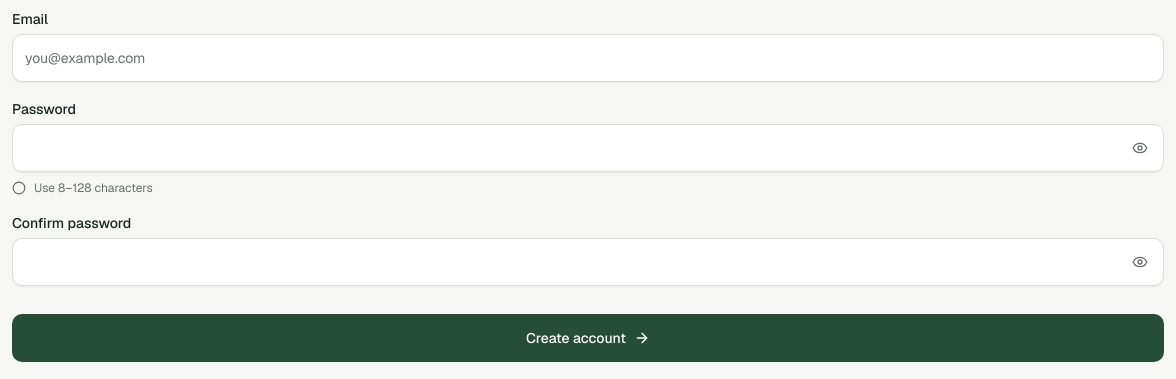
Test: registration form › toggles password visibility independently without changing values
Type "Sandi@Example.com" into the field labelled "Email" at [588, 58], box [12,34,1164,82]
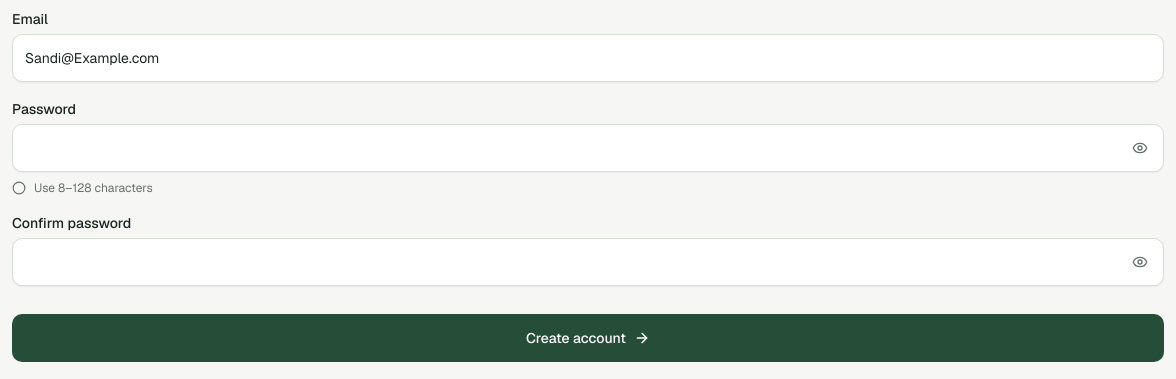
Type "abcdefgh" into the password field labelled "Password" at [588, 148], box [12,124,1164,172]
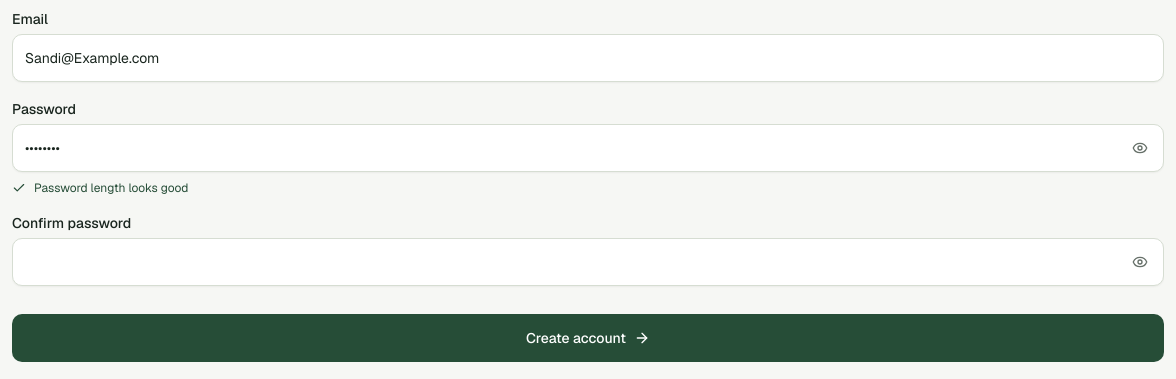
Type "abcdefgh" into the password field labelled "Confirm password" at [588, 262], box [12,238,1164,286]
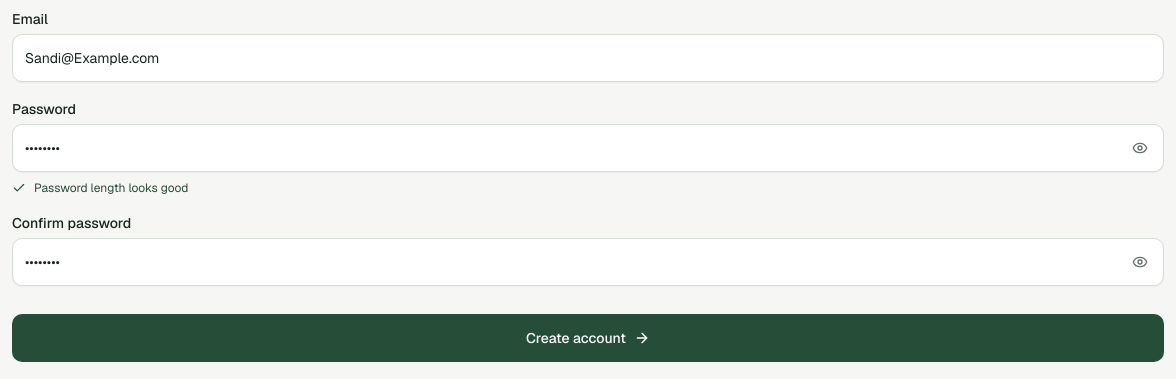
Click the button named "Show password" at [1140, 148], box [1120,128,1160,168]
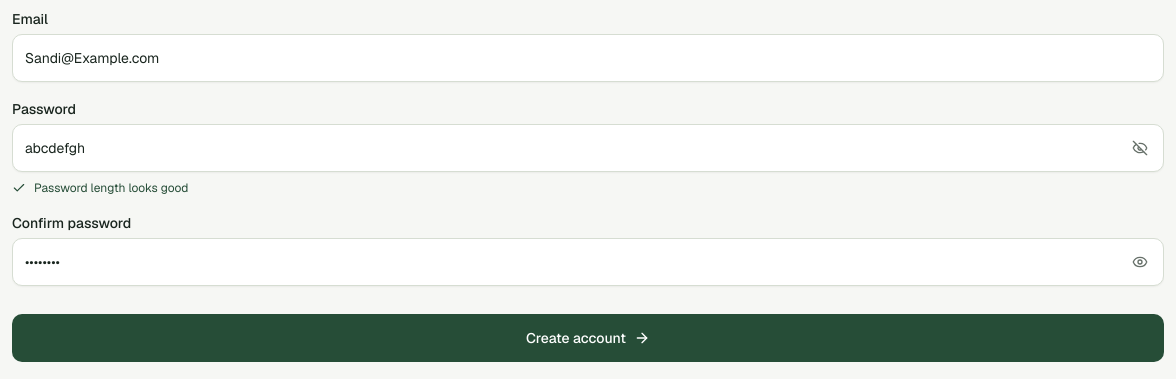
expect the field labelled "Password" shows its text: met, box [12,124,1164,172]
Click the button named "Hide password" at [1140, 148], box [1120,128,1160,168]
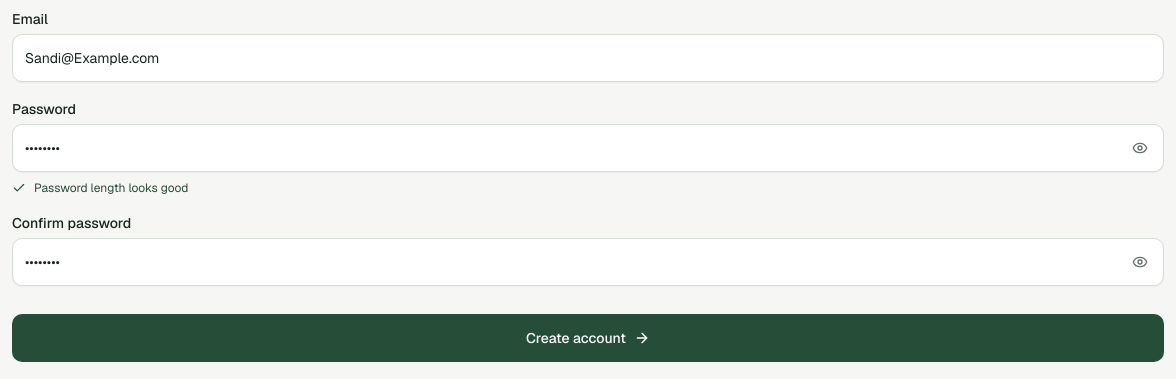
expect the password field labelled "Password" hides its text: met, box [12,124,1164,172]
